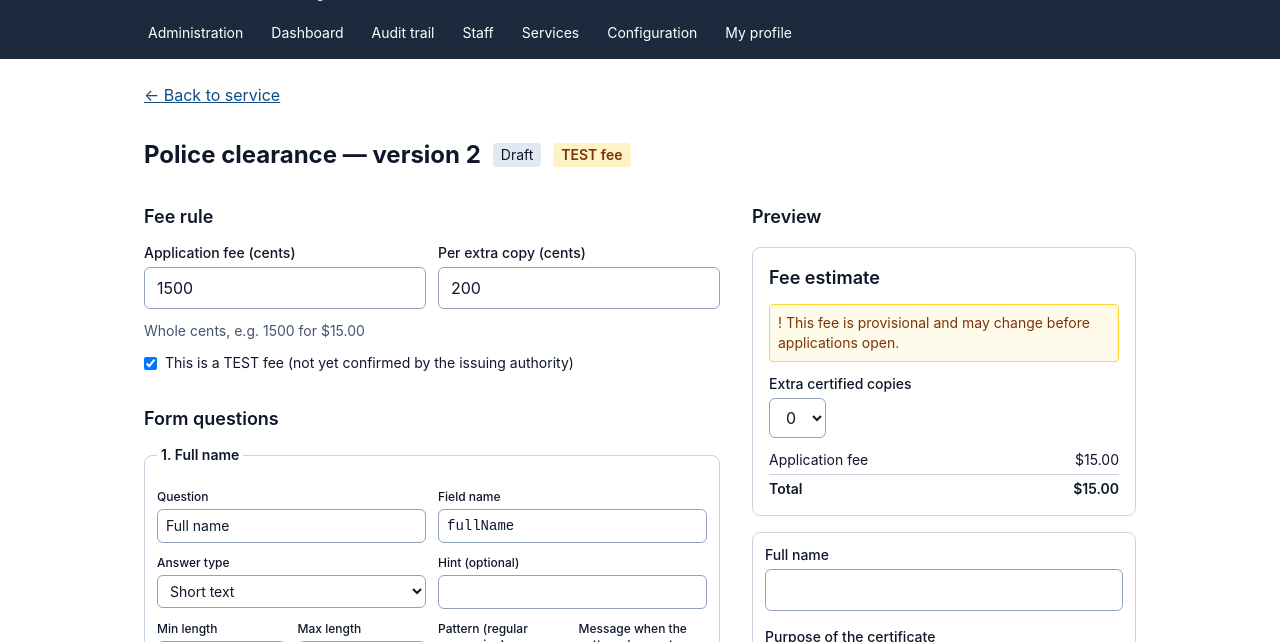
Test: version editor › should save the edits and then publish after confirmation
This screenshot has width=1280, height=642.
Replace the text in the field labelled "Application fee (cents)" with "1750". click: point(285, 288)
box: [144,267,426,309]
(page scrolled)
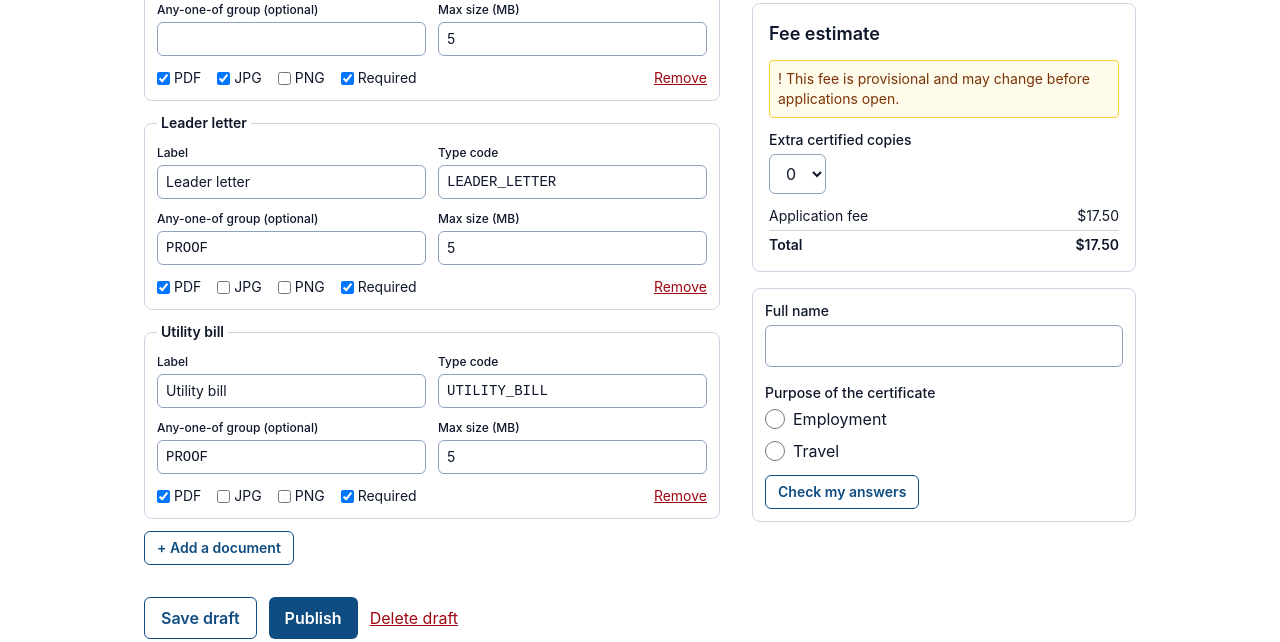
Click the button "Publish". click: point(313, 618)
box: [269,597,358,639]
(page scrolled)
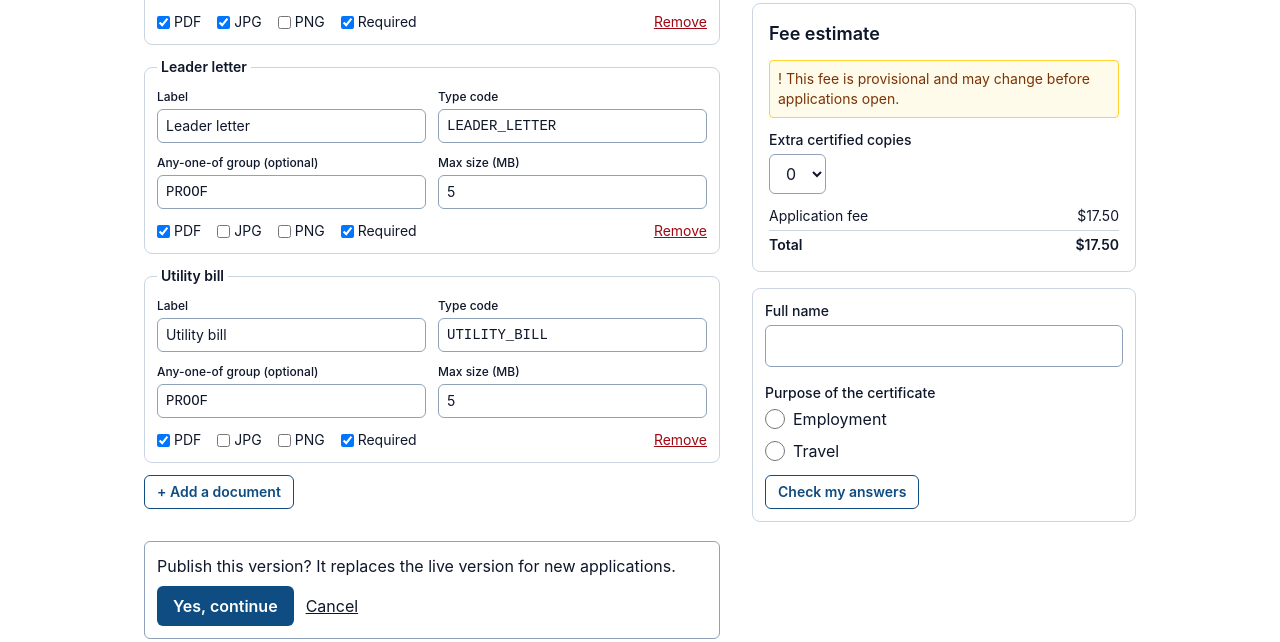
Click the button "Yes, continue". click: point(225, 606)
box: [157,586,294,626]
(page scrolled)
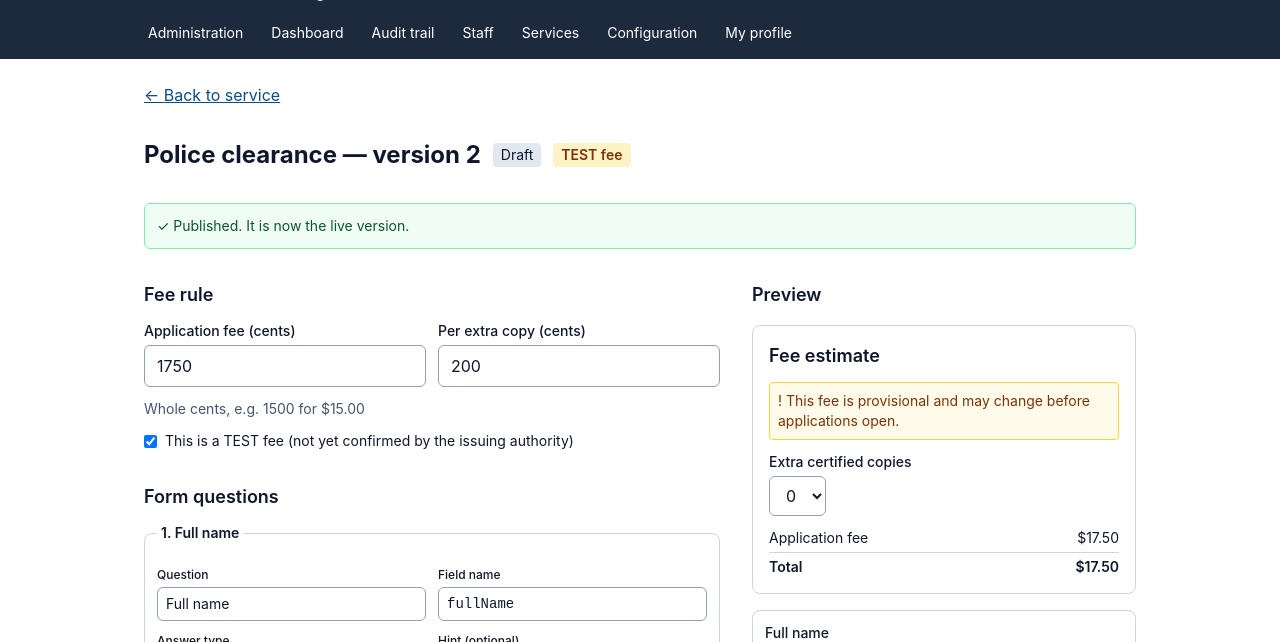
Result: the text "Published. It is now the live version." is shown at [173,217,409,234]
